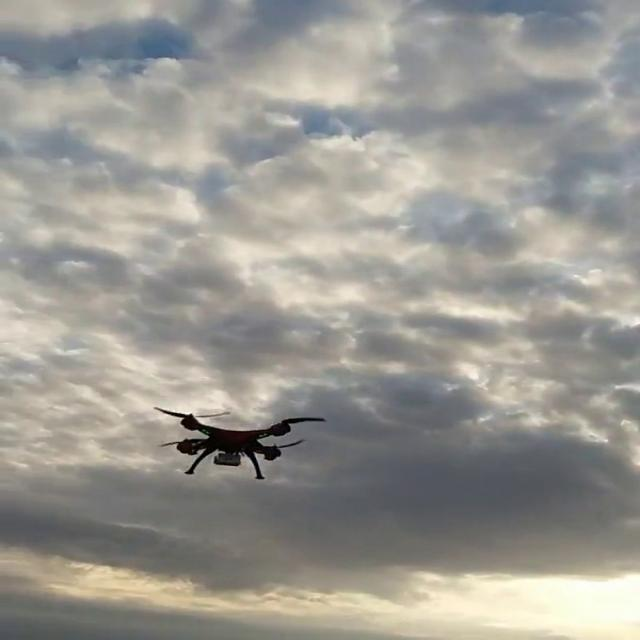drone: (150, 407, 326, 484)
